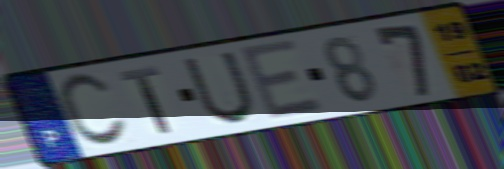7: (370, 22, 432, 99)
8: (322, 34, 380, 104)
C: (55, 70, 132, 150)
E: (235, 36, 328, 124)
T: (116, 64, 175, 136)
U: (180, 49, 259, 127)
